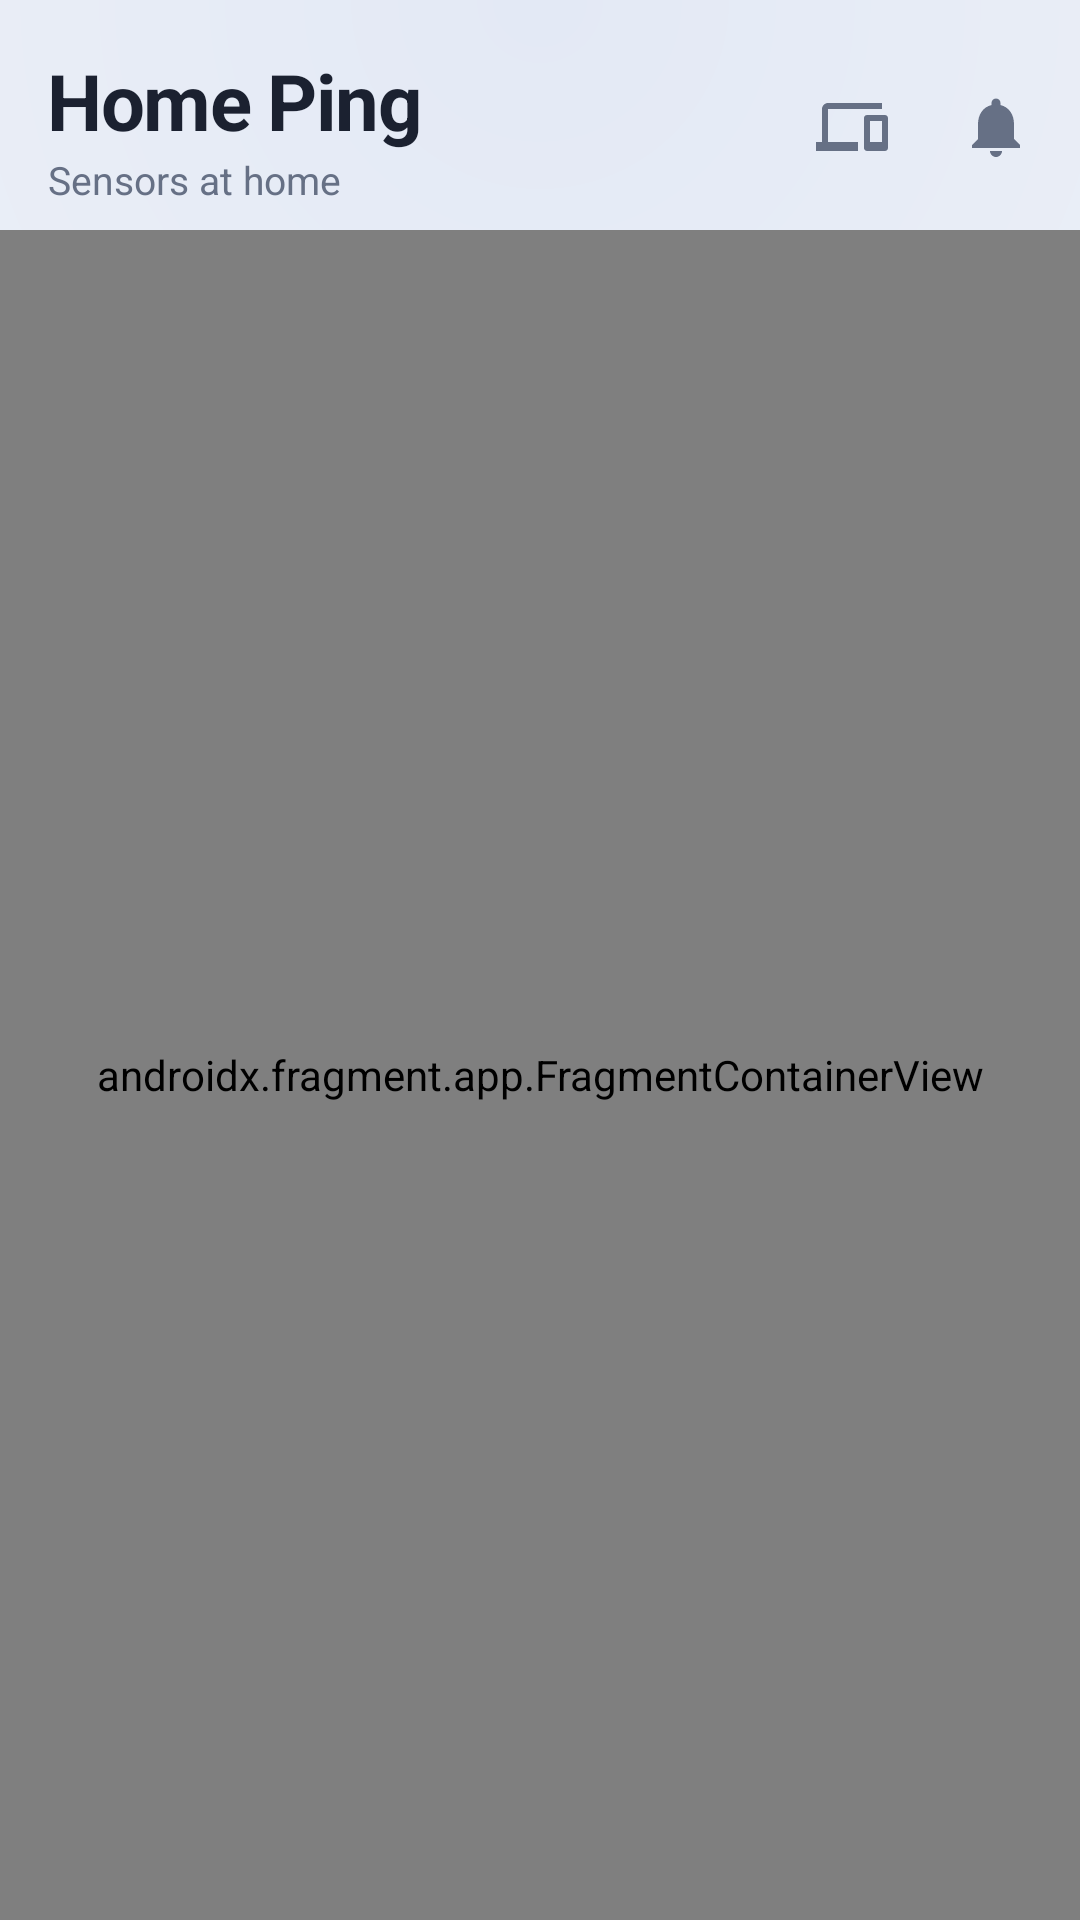

Icon bounding boxes for this 1080px×1920px phone screenshot, format bbox=[x1, y1, x2, y2]:
Devices: bbox=[816, 103, 888, 151]
Notification settings: bbox=[972, 98, 1020, 157]
